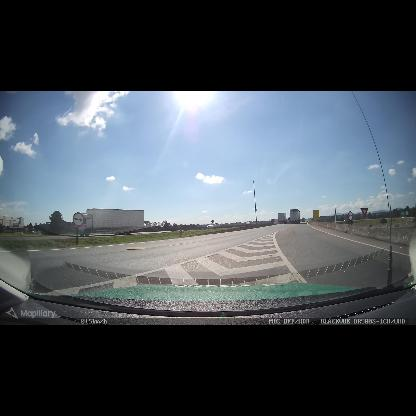O-MP: (179, 225, 182, 234)
R-2: (360, 208, 368, 218)
R-24a: (73, 212, 84, 227), (348, 211, 353, 220)
